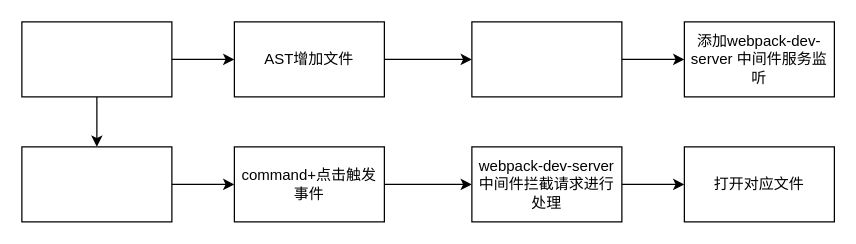
The diagram is 856 pixels wide and 244 high, and some of its shapes have lost their labels. The centre of each missing label's shape, as x and y in pixels:
"初始化" goes at point 96,59.
"注入点击事件" goes at point 546,59.
"运行阶段" goes at point 96,184.
